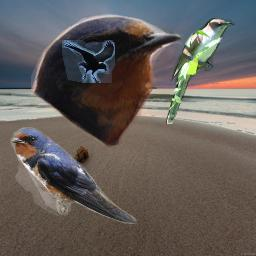Crow: (62, 40, 115, 83)
Cuckoo: (166, 18, 235, 124)
Swallow: (31, 13, 186, 147), (10, 127, 137, 224)
